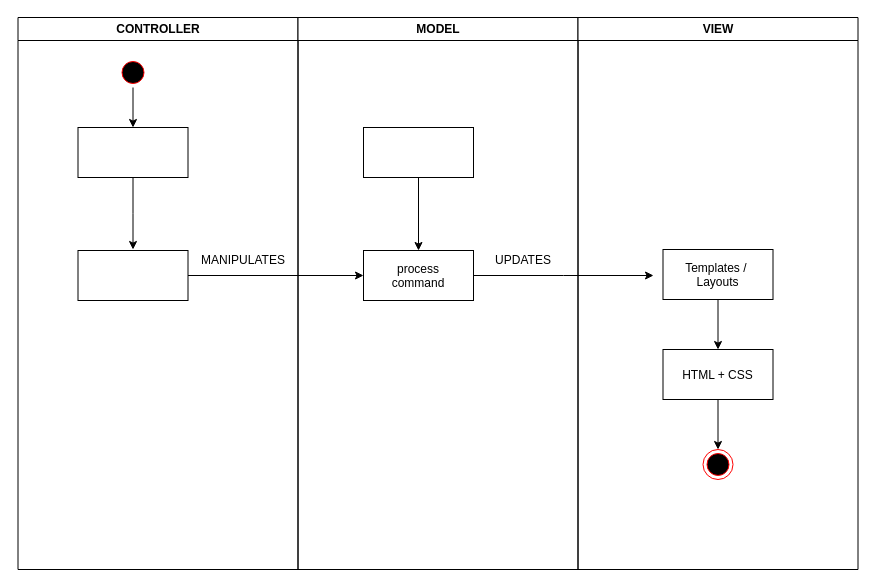
Image size: 875x587. Some labels were removed from this diagram. Each missing label, with the centre of its shape:
"Data Base" goes at (x=418, y=152).
"post command" goes at (x=132, y=275).
"Python / Flask" goes at (x=132, y=152).
